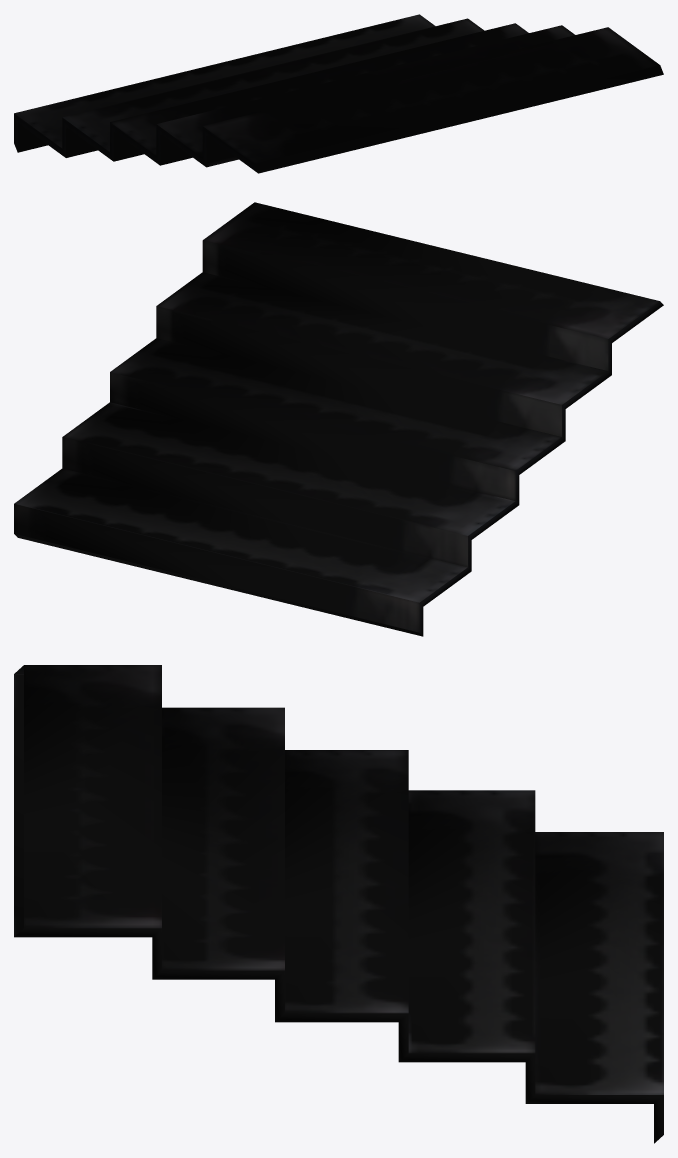
The model's file is FUS0110013.fbx.
3 renders of one model, top to bottom at view 1: azimuth 30°, elevation 25°; view 2: azimuth 150°, elevation 25°; view 3: azimuth 270°, elevation 25°, orthographic. The views are drawn at different scales.
Parts seen in each view (by area): view 1: smFUS0110013; view 2: smFUS0110013; view 3: smFUS0110013.
Boxes of the visible parts, x1=… form: smFUS0110013: x1=14, y1=14, x2=663, y2=173; smFUS0110013: x1=14, y1=202, x2=663, y2=636; smFUS0110013: x1=14, y1=665, x2=663, y2=1143.
Bounding box in the file's own units: 699 × 267 × 729.
Materials: 1 (1 with a texture image).
